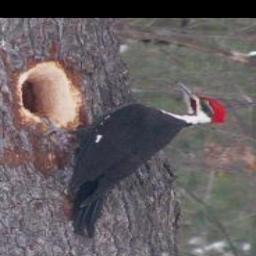Woodpecker: (31, 81, 231, 238)
